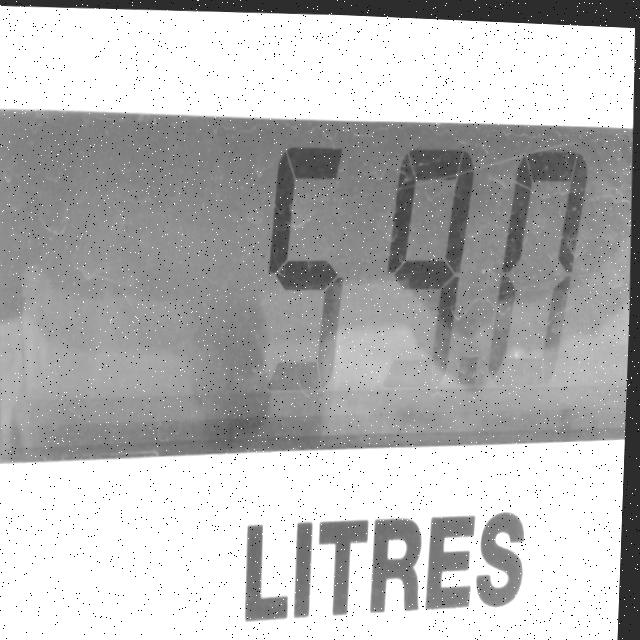.: (450, 337, 496, 413)
0: (477, 129, 594, 408)
5: (238, 130, 386, 421)
9: (378, 128, 475, 397)
